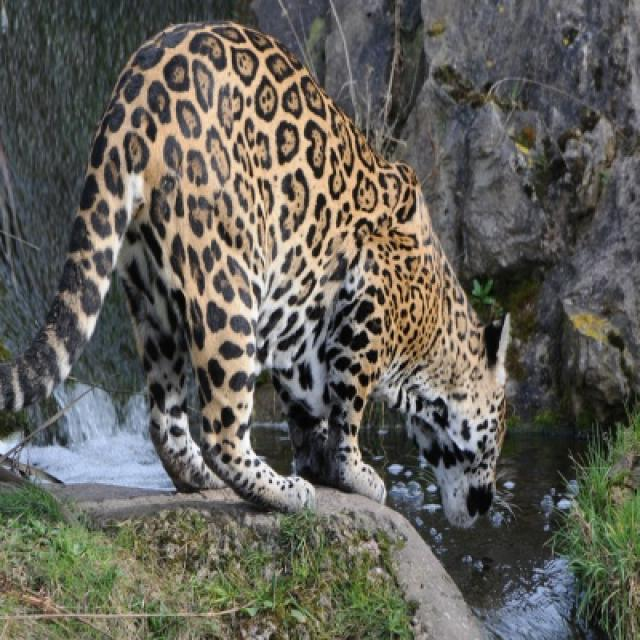Jaguar: (0, 21, 507, 534)
